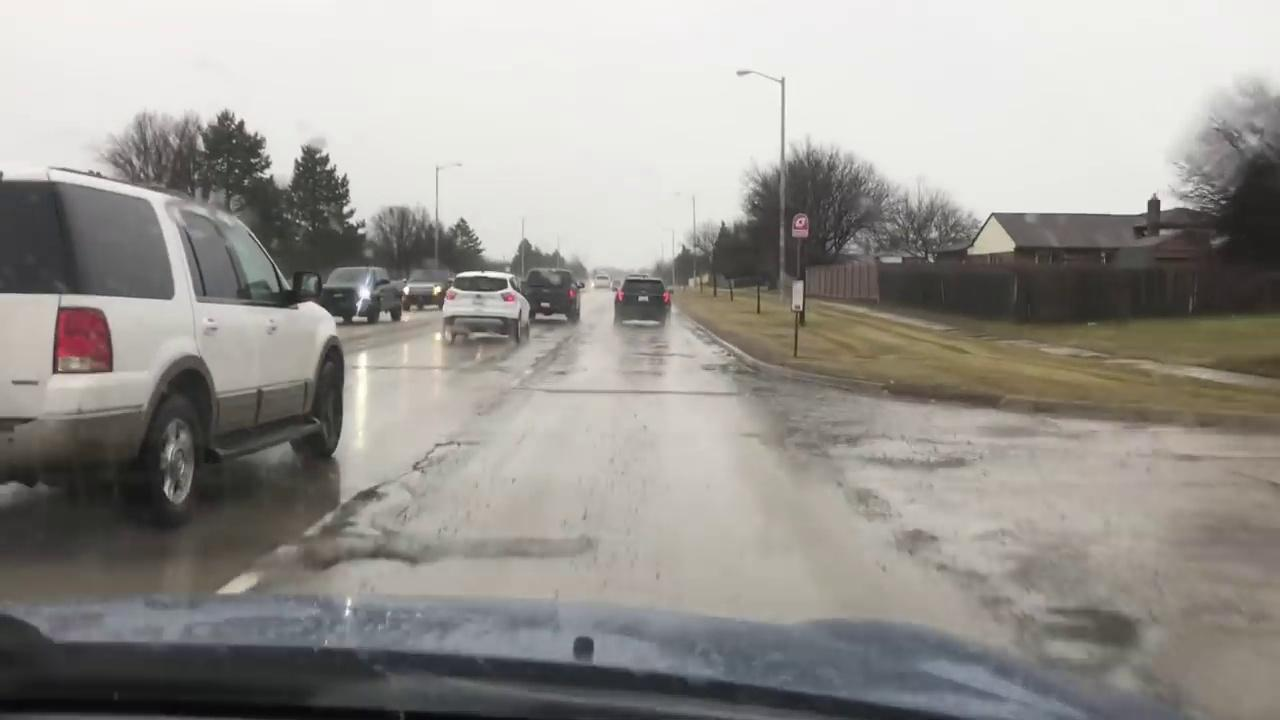pothole: (410, 441, 480, 469)
